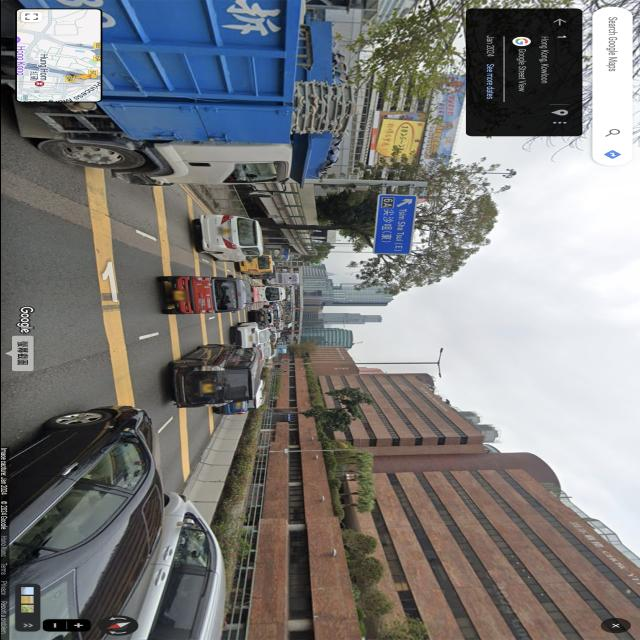Direction-Sign: (373, 195, 416, 254)
